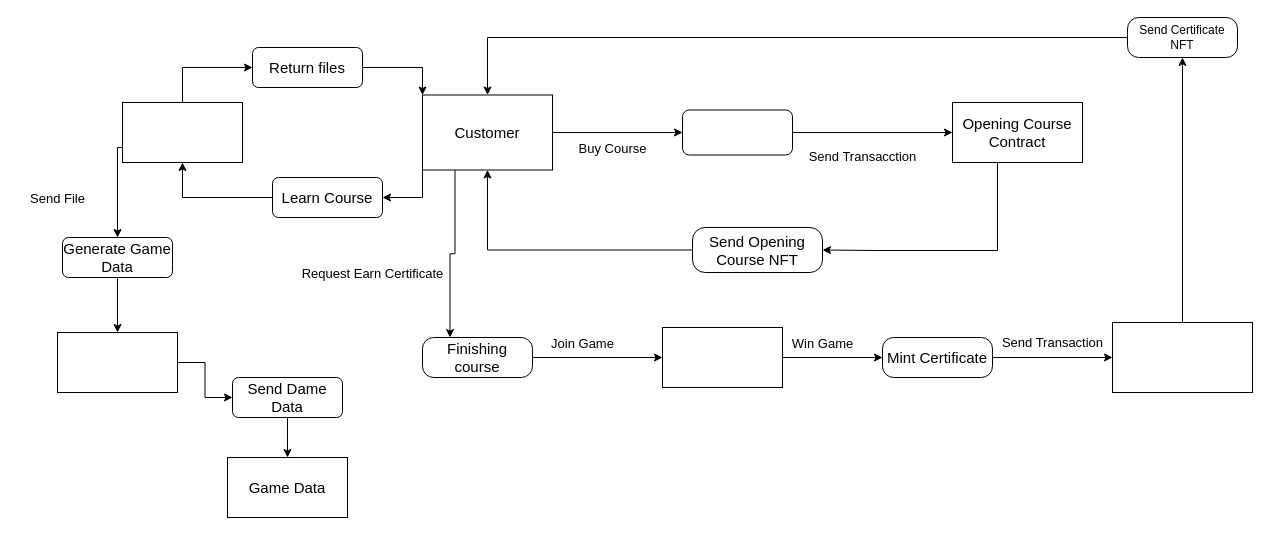
Some shapes in this 1270 by 535 pixel diagram are drawn without their labels. Here are the shapes that lost their labels. From the top down, the centre of each, then its label:
At (x=182, y=132): "Course".
At (x=737, y=132): "Get Course".
At (x=117, y=362): "NLP model".
At (x=722, y=357): "Game".
At (x=1182, y=357): "Earning Certificate Contract".
